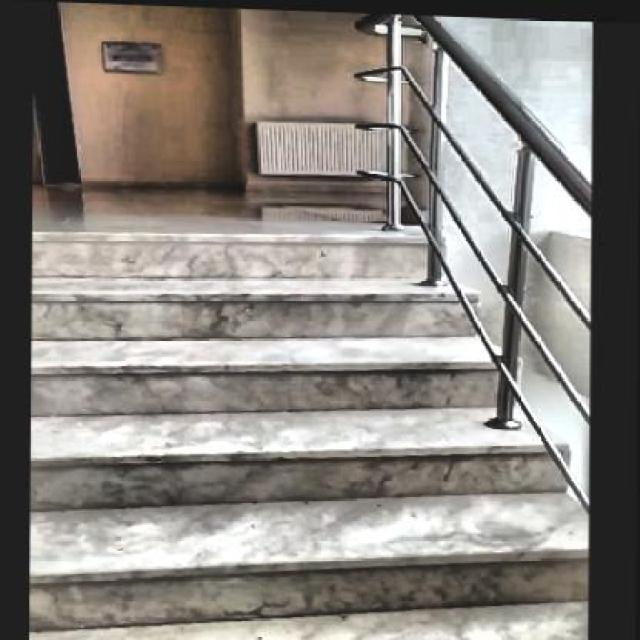stair: (28, 220, 622, 638)
